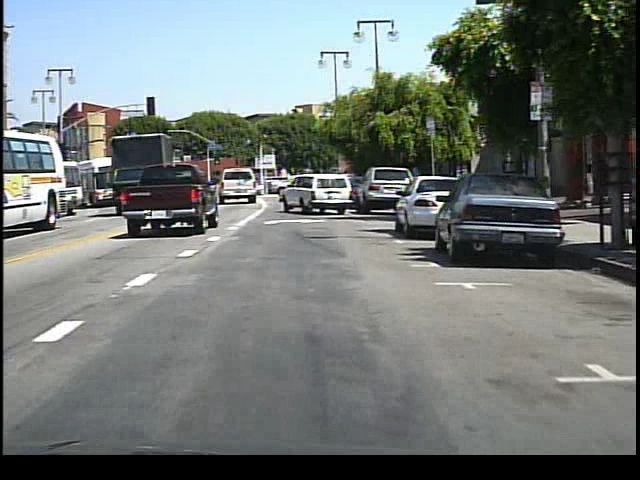car: (442, 178, 585, 264), (104, 155, 222, 236), (396, 174, 440, 236), (288, 174, 349, 212), (363, 164, 402, 214), (216, 165, 260, 208)
strada: (13, 254, 621, 442)
